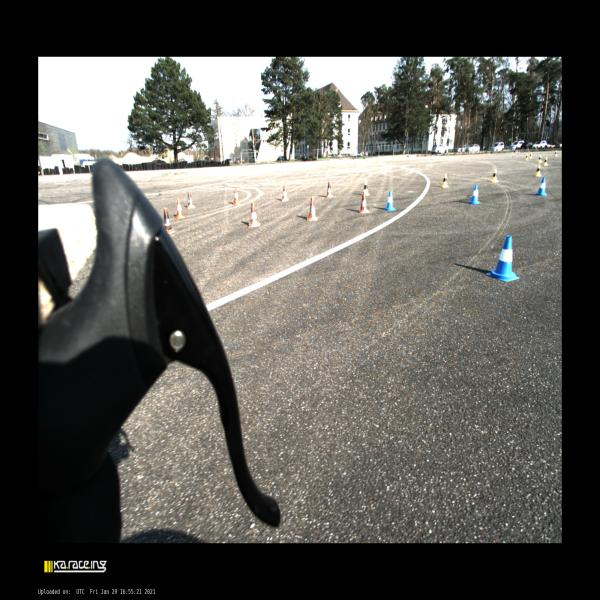blue_cone: (486, 235, 520, 282), (468, 184, 481, 204), (384, 190, 396, 211), (534, 177, 547, 196)
orange_cone: (163, 207, 176, 234), (305, 196, 318, 221), (249, 202, 260, 227), (358, 191, 370, 213), (174, 198, 185, 219), (186, 191, 196, 208), (282, 183, 290, 201), (325, 182, 333, 198), (232, 188, 240, 204)
yellow_cone: (361, 180, 370, 196), (490, 168, 498, 183), (441, 173, 449, 188), (534, 164, 542, 176), (543, 157, 548, 166), (537, 154, 542, 163), (525, 153, 529, 160), (554, 150, 558, 156), (529, 152, 532, 159)
